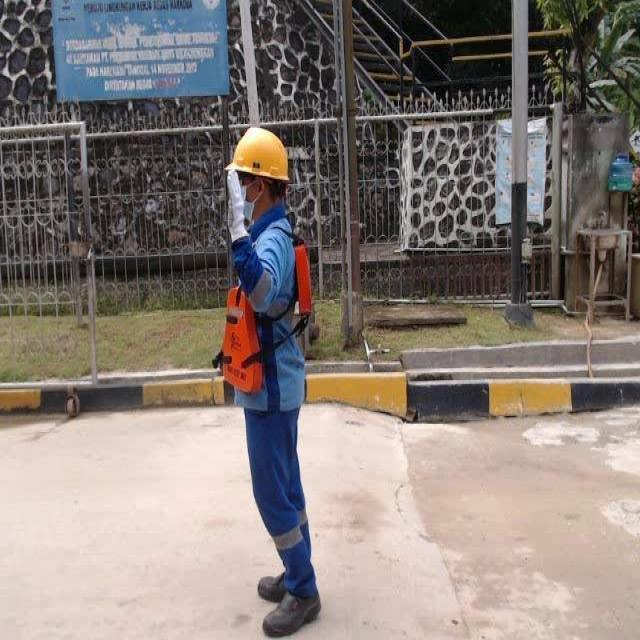vest: (214, 242, 317, 398)
